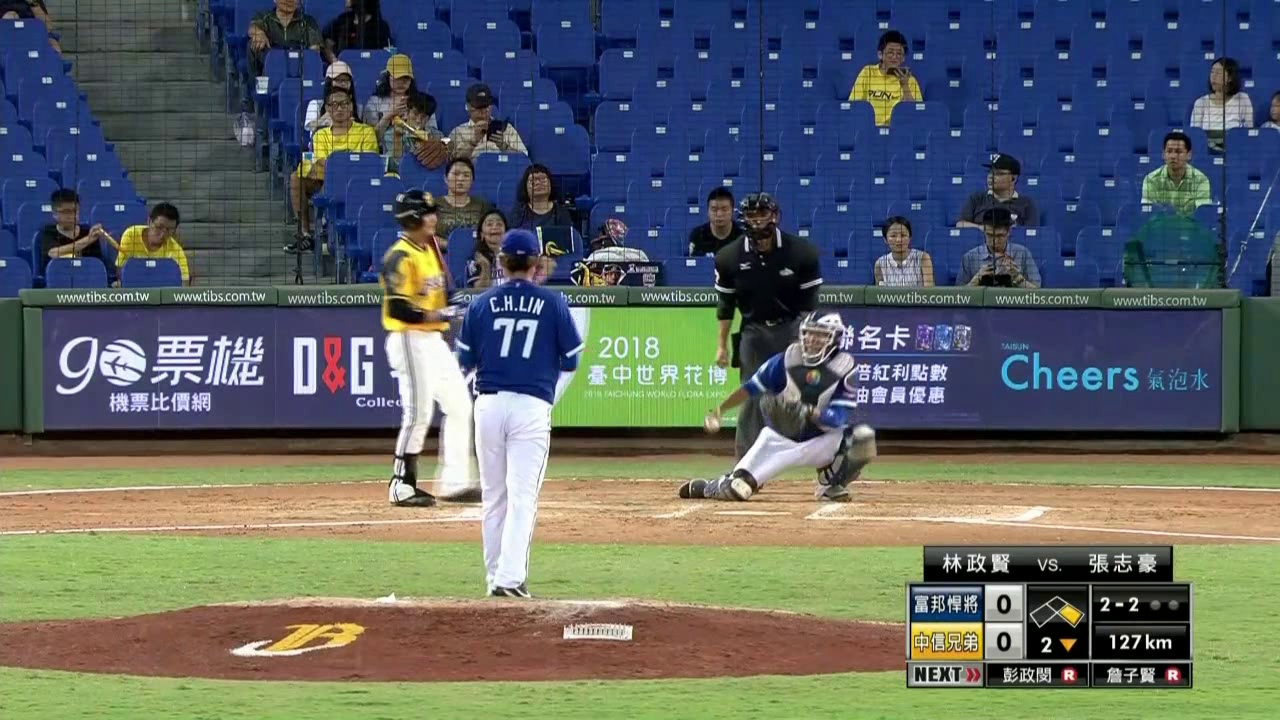ball: (704, 416, 721, 434)
base: (1029, 588, 1085, 628)
out: (1147, 588, 1186, 621)
score1: (986, 588, 1020, 619)
score2: (987, 626, 1023, 657)
session: (1030, 633, 1085, 660)
speed: (1096, 629, 1179, 658)
strikeball: (1093, 590, 1145, 620)
